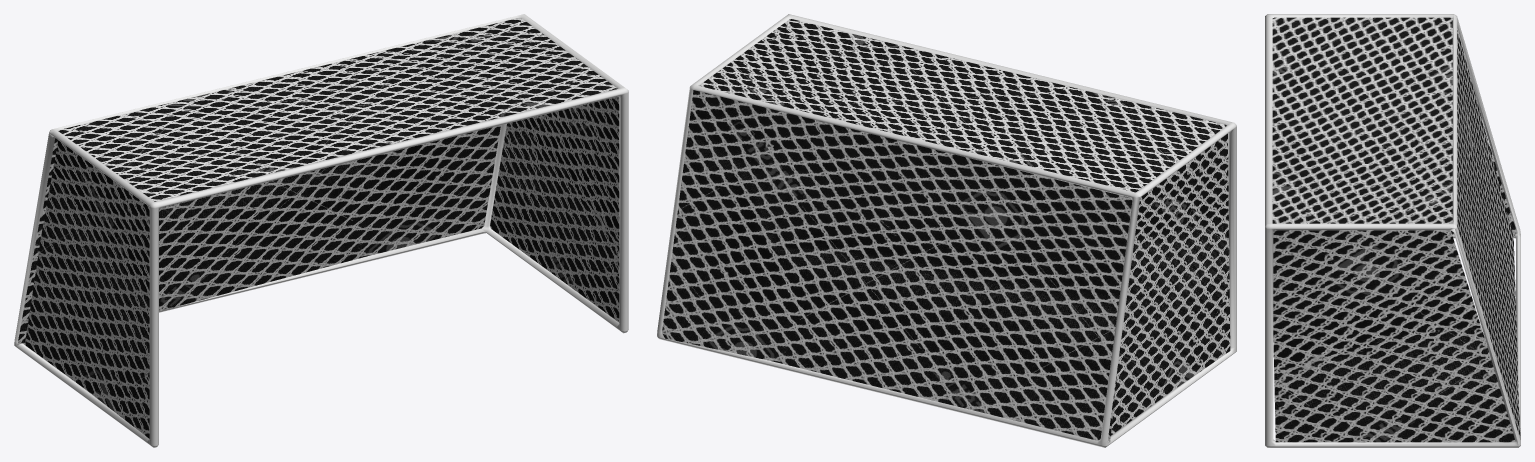
Rendered from gawang.fbx.
3 renders of one model, left to right at view 1: azimuth 30°, elevation 25°; view 2: azimuth 150°, elevation 25°; view 3: azimuth 270°, elevation 25°, orthographic. The views are drawn at different scales.
Parts seen in each view (by area): view 1: Plane.002; view 2: Plane.002; view 3: Plane.002.
Boxes of the visible parts, x1,y1,x2,y2 form: Plane.002: [14, 14, 628, 447]; Plane.002: [657, 14, 1236, 447]; Plane.002: [1265, 14, 1520, 447].
Size of the model in its own units: 200 by 97.72 by 102.
